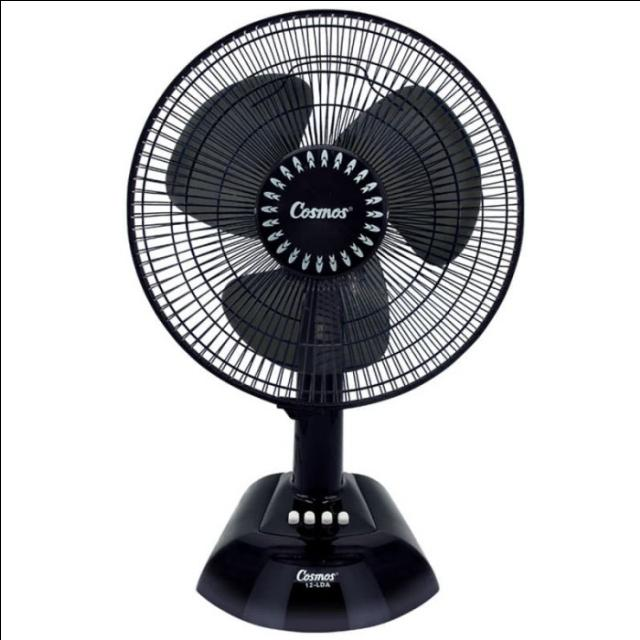fan: (129, 2, 525, 630)
